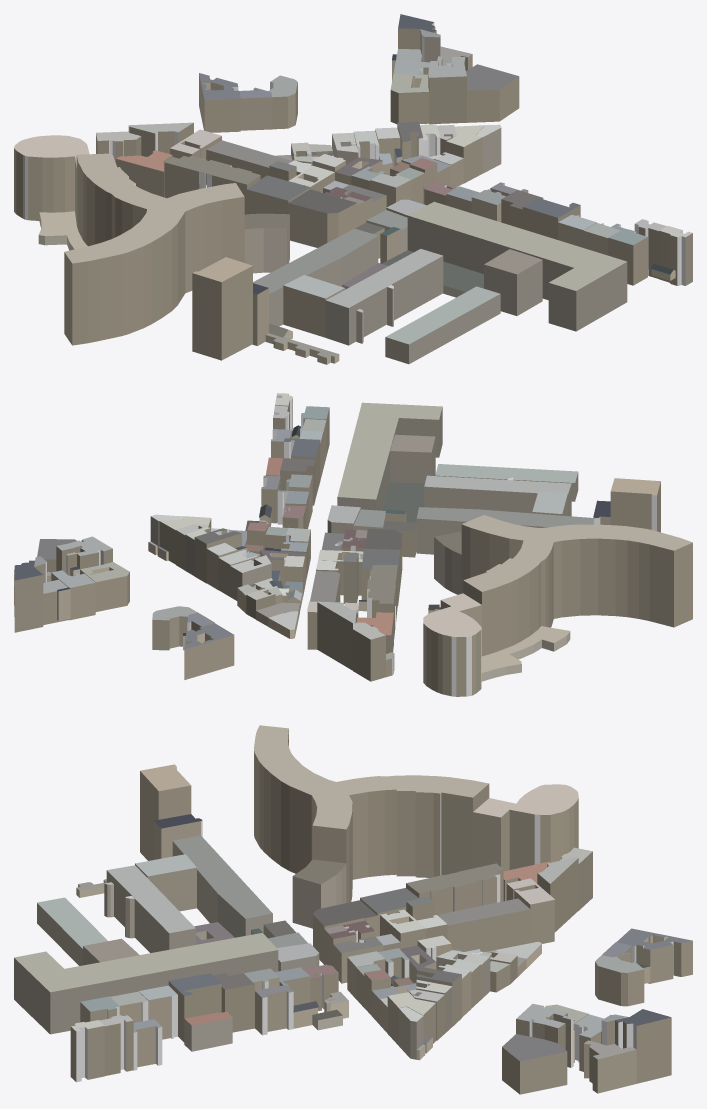
3 renders of one model, top to bottom at view 1: azimuth 30°, elevation 25°; view 2: azimuth 150°, elevation 25°; view 3: azimuth 270°, elevation 25°, orthographic. The views are drawn at different scales.
Visible parts, largest first — view 1: tuile; view 2: tuile; view 3: tuile.
Part boxes in pixels (<box>): tuile: <box>14,14,692,364</box>; tuile: <box>14,393,692,696</box>; tuile: <box>14,725,692,1094</box>.
Bounding box in the file's own units: 300 × 42.47 × 296.
